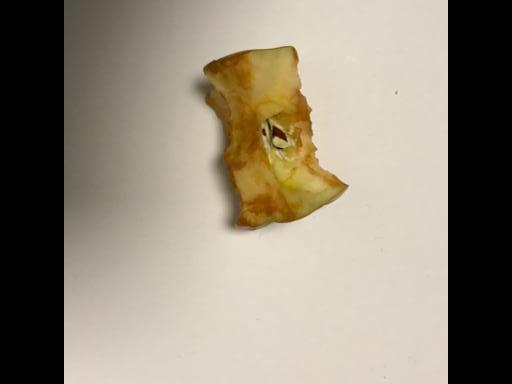trash: (203, 46, 351, 233)
